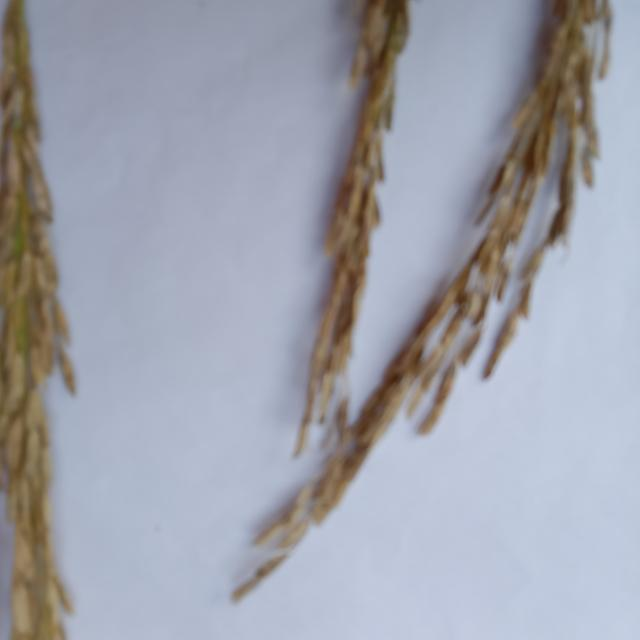Neck_Blast: (260, 5, 592, 547), (0, 0, 65, 638), (306, 2, 405, 395)
